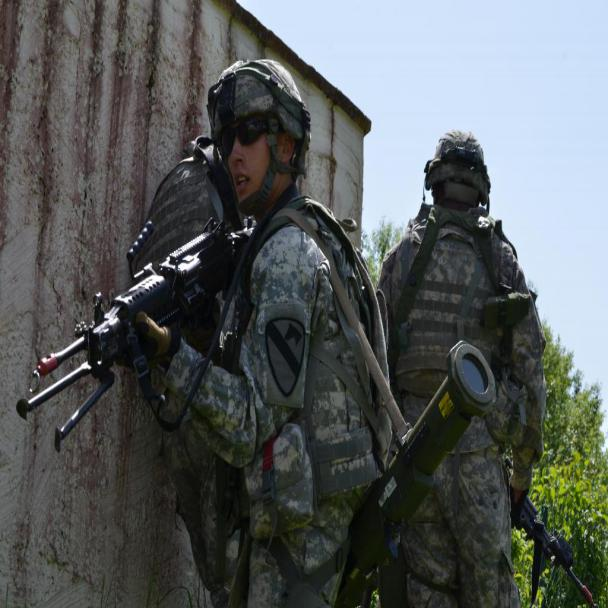Gun: (11, 216, 254, 444), (506, 464, 604, 607)
Hand: (148, 307, 308, 472), (503, 290, 543, 510)
